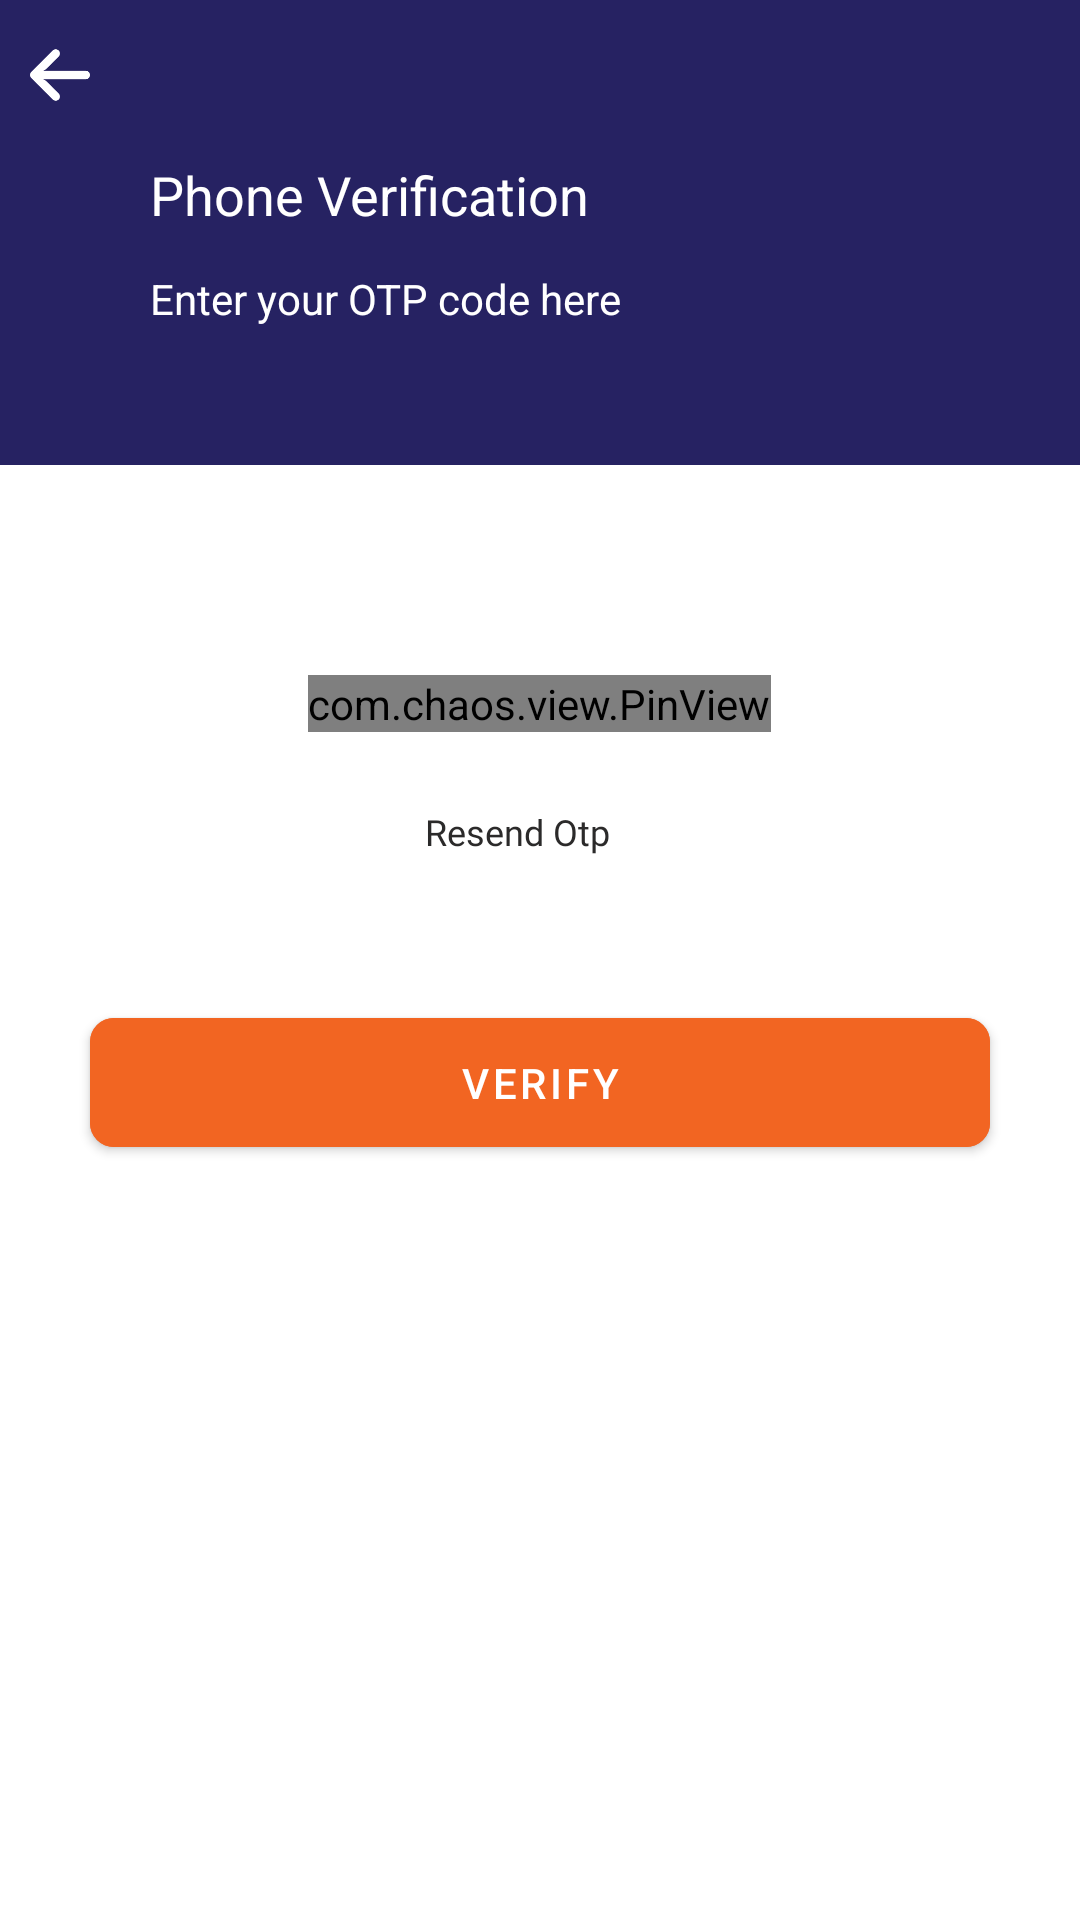

Icon bounding boxes for this 1080x1920 phone screenshot, format [x1,y1,x2,y2]:
back: [30,49,90,101]
